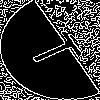T: (25, 25, 93, 74)
